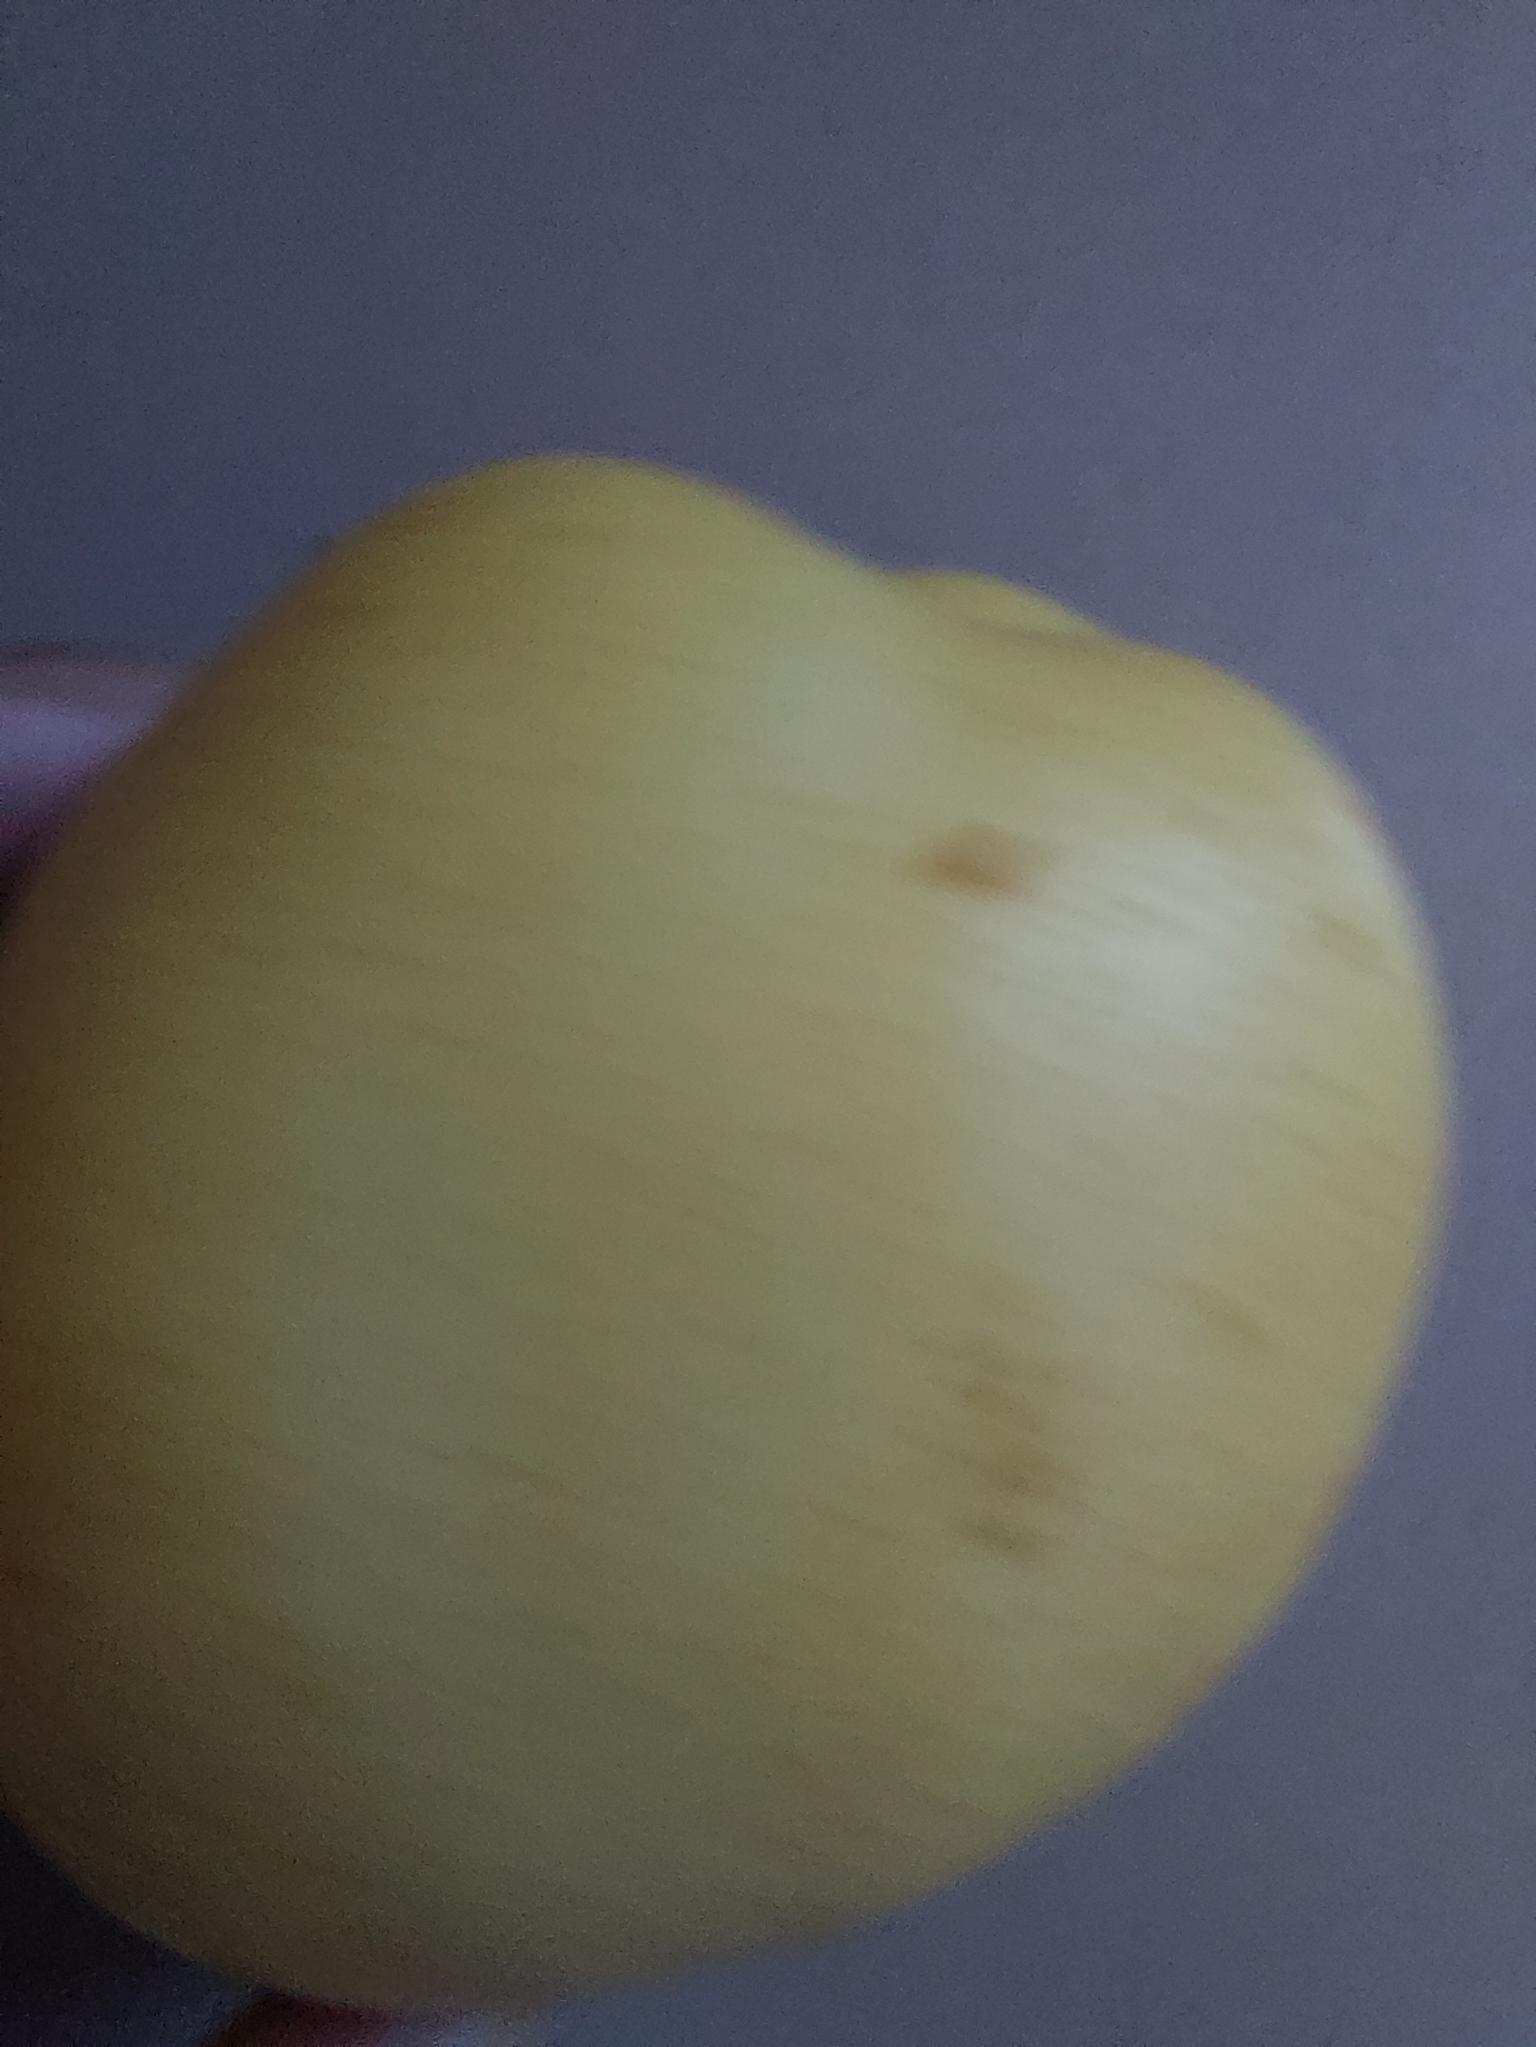Good Pear: (0, 450, 1455, 2020)
